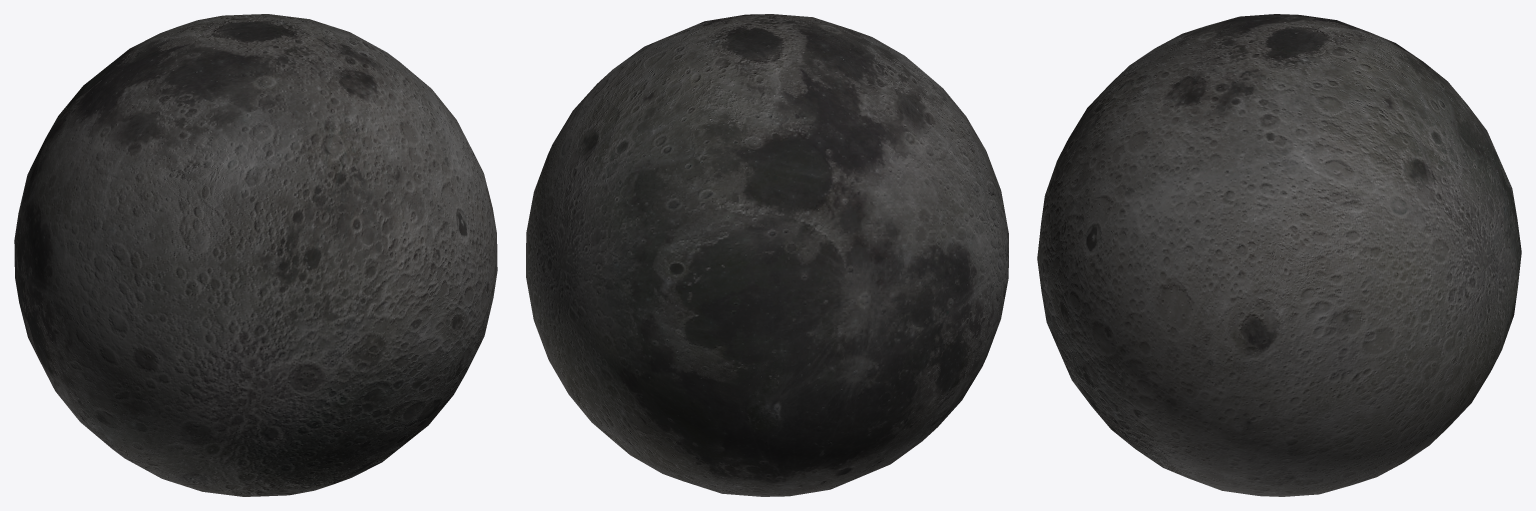
File: moon_.obj
The picture shows the model from 3 angles, left to right: view 1: azimuth 30°, elevation 25°; view 2: azimuth 150°, elevation 25°; view 3: azimuth 270°, elevation 25°; orthographic projection.
Parts seen in each view (by area): view 1: Moon_Cube.002; view 2: Moon_Cube.002; view 3: Moon_Cube.002.
Part boxes in pixels (box(x1,y1,x2,y2)): Moon_Cube.002: box(14, 14, 497, 496); Moon_Cube.002: box(526, 14, 1008, 496); Moon_Cube.002: box(1037, 14, 1521, 496).
Size of the model in its own units: 3.48 by 3.48 by 3.49.
